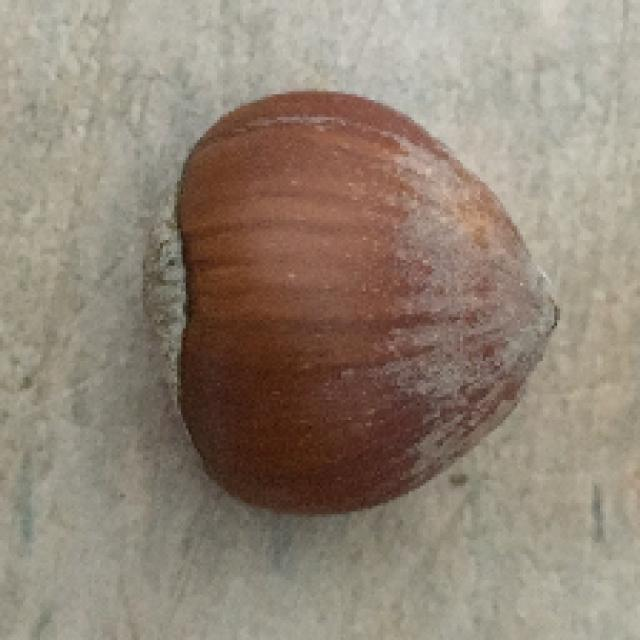qualityHazelnut: (140, 89, 562, 520)
